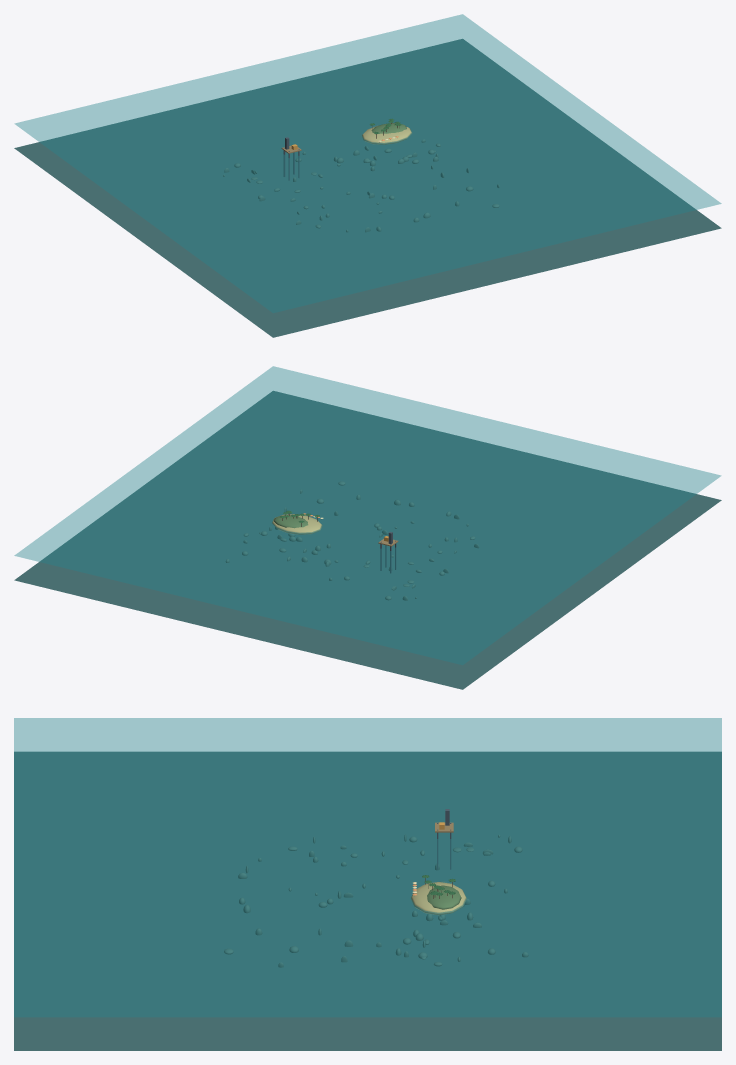
The model's file is environment.glb.
3 views of the same model, one above another, from view 1: azimuth 30°, elevation 25°; view 2: azimuth 150°, elevation 25°; view 3: azimuth 270°, elevation 25° (orthographic). The views are drawn at different scales.
Parts seen in each view (by area): view 1: Water, Seabed, Beach; view 2: Water, Seabed; view 3: Water, Seabed, Beach, EnvironmentPart_0.
Boxes of the visible parts, box(x1,y1,x2,y2) form: Water: box(15, 14, 721, 312); Seabed: box(14, 39, 721, 337); Beach: box(362, 125, 411, 144); Water: box(14, 366, 720, 664); Seabed: box(14, 391, 721, 689); Water: box(14, 718, 721, 1016); Seabed: box(14, 751, 721, 1050); Beach: box(410, 882, 466, 915); EnvironmentPart_0: box(427, 885, 461, 909).
Bounding box in the file's own units: 650 × 61.49 × 650.
